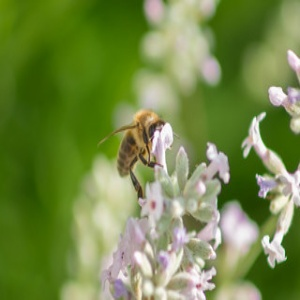bee: (98, 107, 173, 209)
